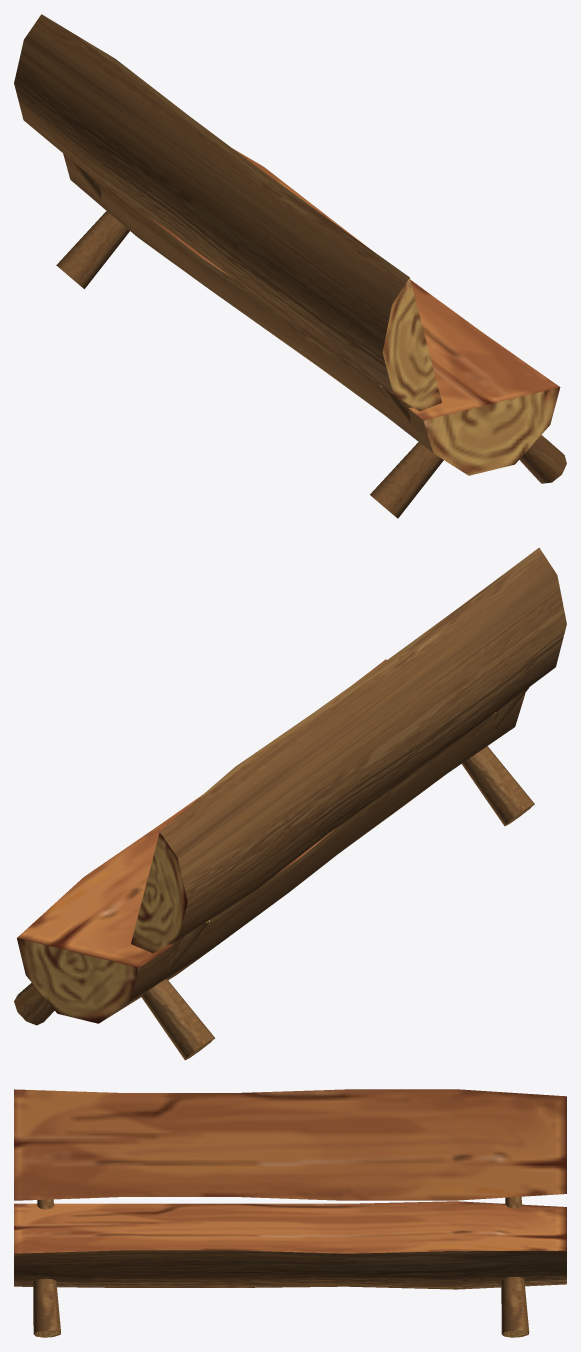
File: Bench.FBX
3 views of the same model, one above another, from view 1: azimuth 30°, elevation 25°; view 2: azimuth 150°, elevation 25°; view 3: azimuth 270°, elevation 25° (orthographic). The views are drawn at different scales.
Visible parts, largest first — view 1: Cylinder002; view 2: Cylinder002; view 3: Cylinder002.
Boxes of the visible parts, x1=… form: Cylinder002: x1=14, y1=14, x2=566, y2=518; Cylinder002: x1=14, y1=547, x2=566, y2=1060; Cylinder002: x1=14, y1=1089, x2=566, y2=1337.
Bounding box in the file's own units: 37.35 × 45.06 × 117.
